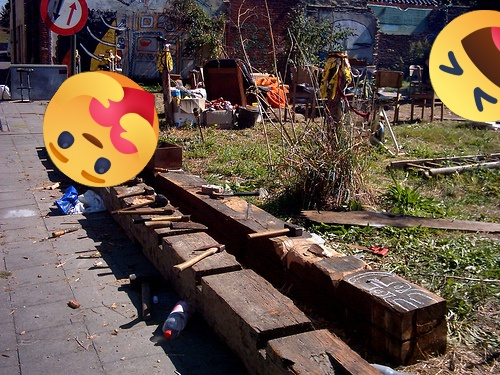care: (43, 71, 159, 187)
haha: (429, 10, 500, 122)
